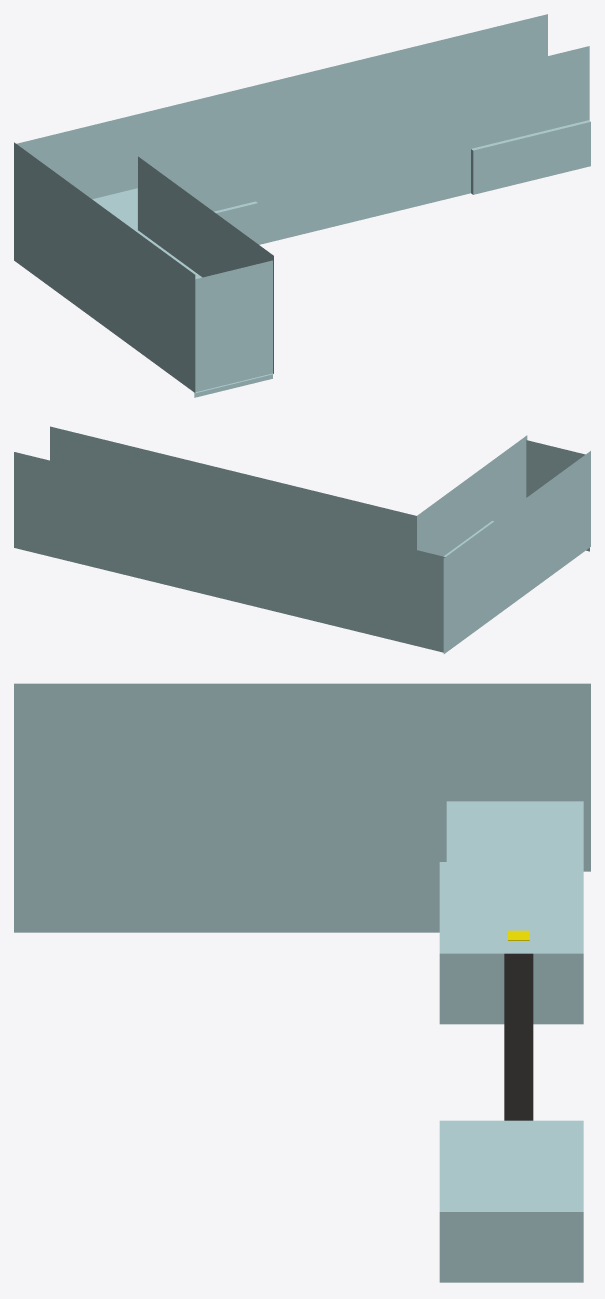
Rendered from Level.fbx.
The picture shows the model from 3 angles, top to bottom: view 1: azimuth 30°, elevation 25°; view 2: azimuth 150°, elevation 25°; view 3: azimuth 270°, elevation 25°; orthographic projection. The views are drawn at different scales.
Parts seen in each view (by area): view 1: Wall__4_, Wall__5_, Wall, Wall__2_, Wall__3_, HighFloor01, HighFloor03, HighFloor02; view 2: Wall__5_, Wall__4_, Wall, Wall__3_, HighFloor01, HighFloor03, HighFloor02, Wall__2_; view 3: Wall__3_, Wall, HighFloor03, HighFloor02, HighFloor01, Bridge.
Boxes of the visible parts, <box> form: Wall__4_: <box>137,46,589,244</box>; Wall__5_: <box>16,14,547,199</box>; Wall: <box>14,142,195,392</box>; Wall__2_: <box>194,260,272,397</box>; Wall__3_: <box>138,156,273,373</box>; HighFloor01: <box>16,198,202,361</box>; HighFloor03: <box>471,120,590,194</box>; HighFloor02: <box>95,188,257,243</box>; Wall__5_: <box>14,452,445,652</box>; Wall__4_: <box>50,426,416,549</box>; Wall: <box>443,451,590,653</box>; Wall__3_: <box>417,435,527,556</box>; HighFloor01: <box>382,521,551,652</box>; HighFloor03: <box>16,512,111,571</box>; HighFloor02: <box>286,578,381,636</box>; Wall__2_: <box>526,440,589,551</box>; Wall__3_: <box>14,744,446,932</box>; Wall: <box>14,683,590,871</box>; HighFloor03: <box>439,1120,583,1282</box>; HighFloor02: <box>439,862,583,1024</box>; HighFloor01: <box>151,801,583,932</box>; Bridge: <box>504,953,533,1120</box>.
Bounding box in the file's own units: 6770 × 1505 × 4000.
